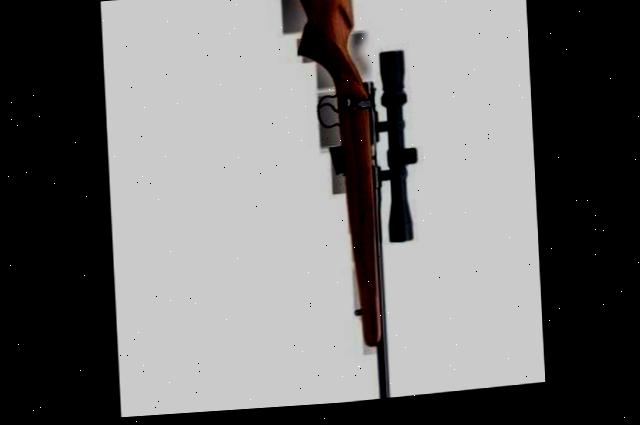rifle: (243, 0, 467, 412)
